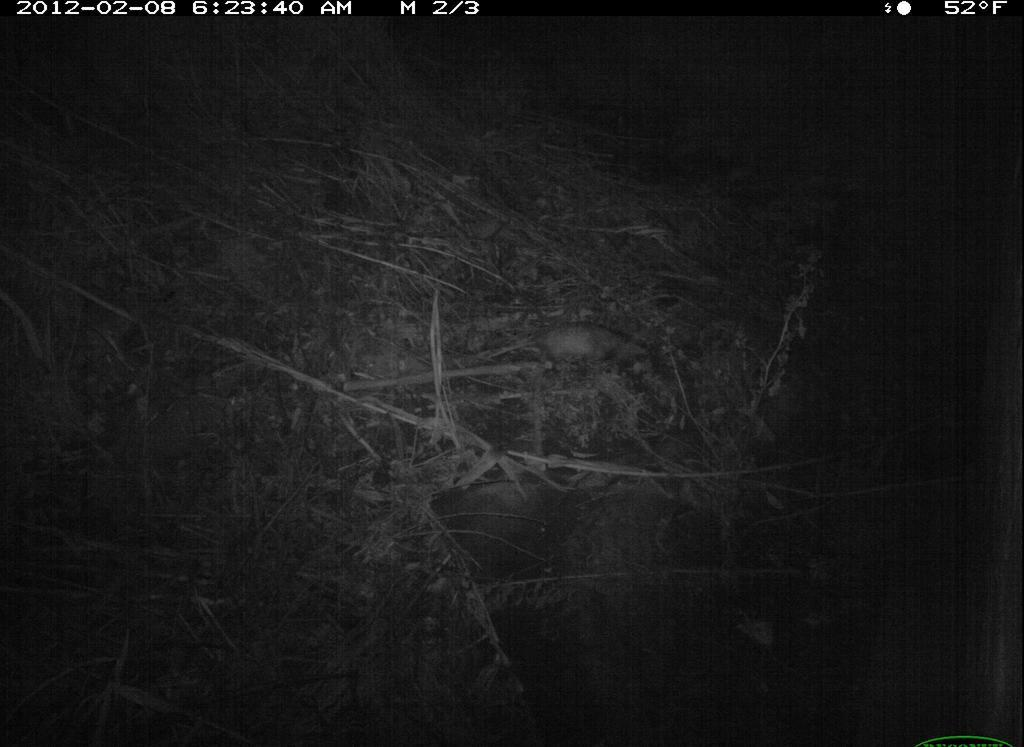opossum: (501, 323, 660, 382)
